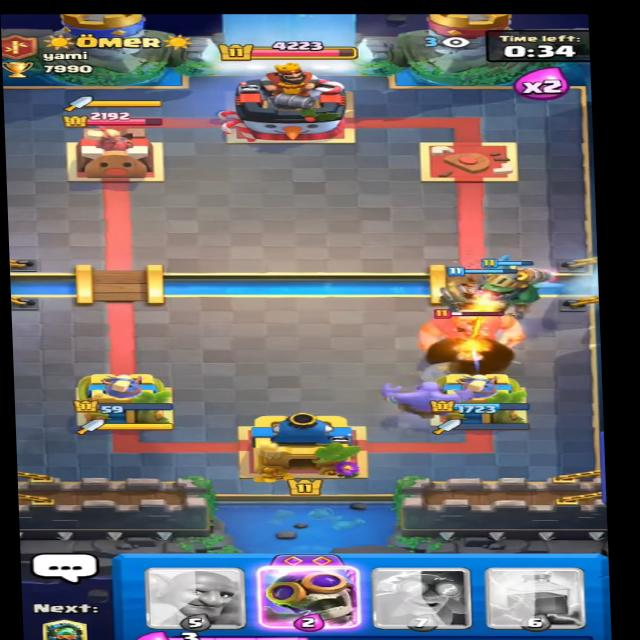Giant: (420, 302, 534, 362)
